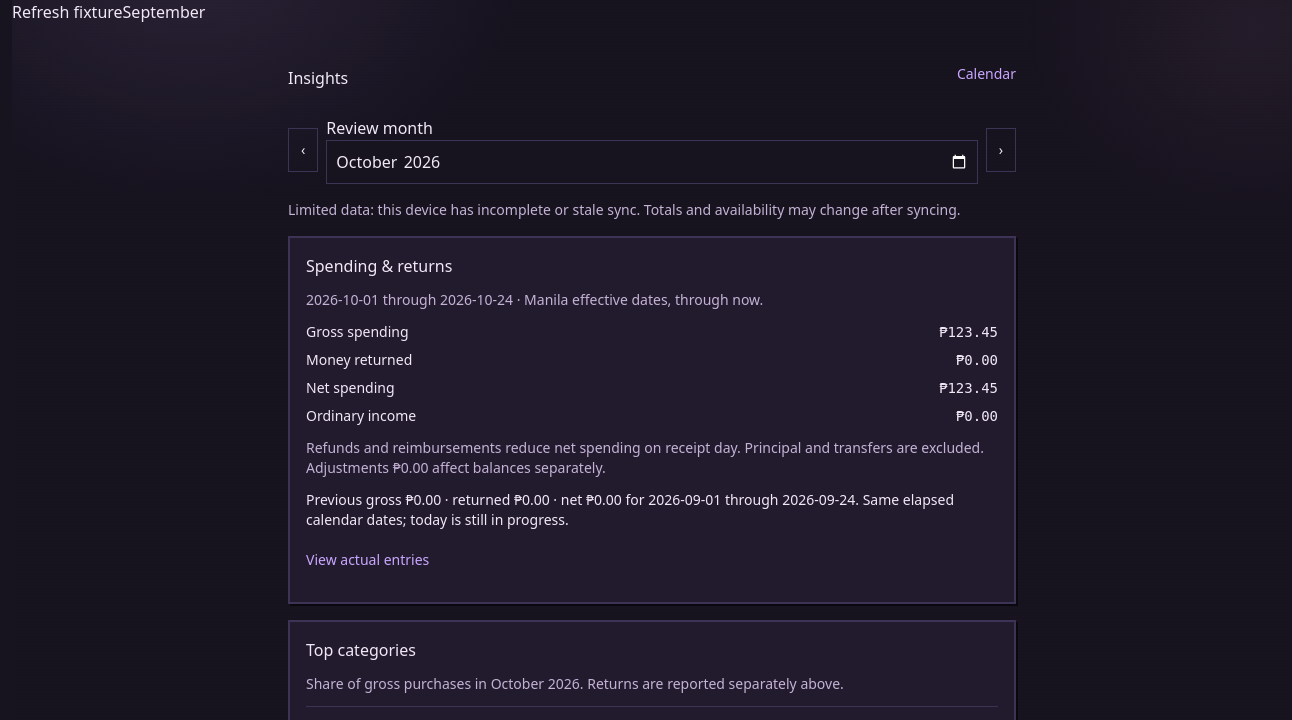
Scenario: switches months without putting old totals under new labels and scopes future data
This screenshot has width=1292, height=720.
Expected: the heading "Top categories" is shown, top-left (306, 639), bottom-right (416, 661)
Click the link "September": (164, 12) top-left (123, 1), bottom-right (206, 23)
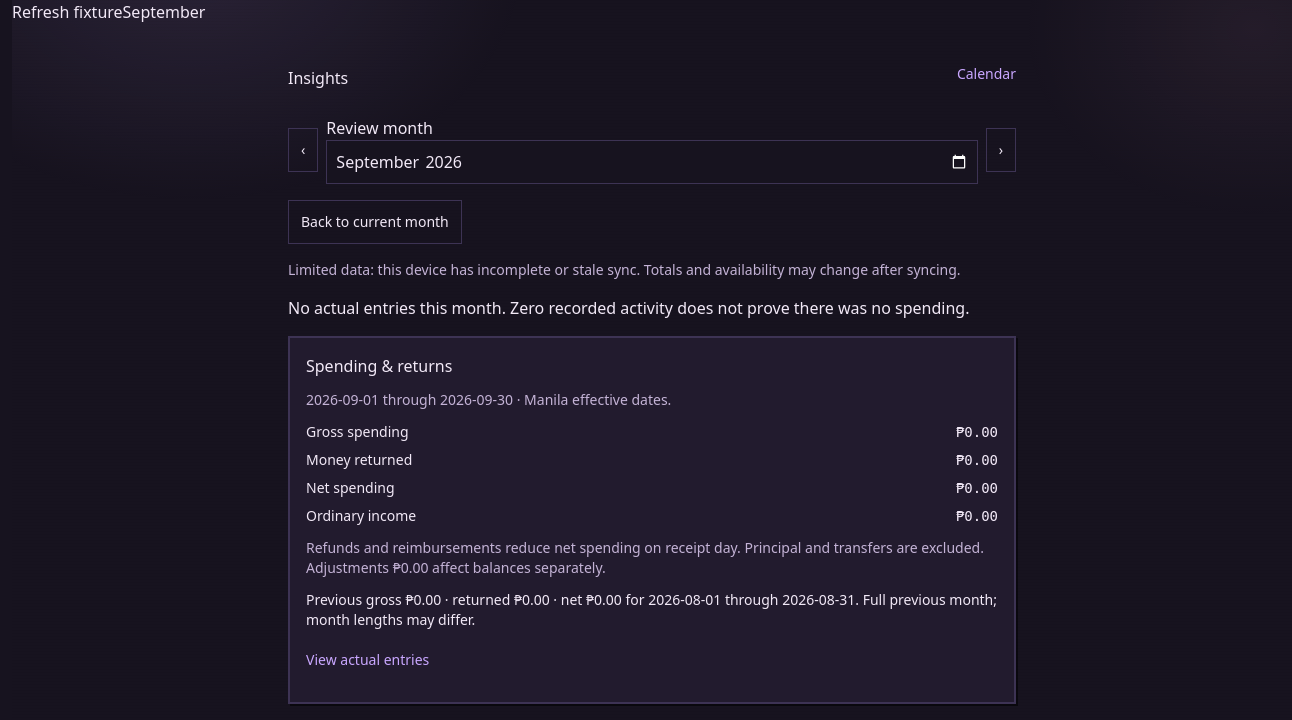
Expected: the link "Food (archived)" is not shown
Expected: the text "No actual entries this month. Zero recorded activity does not prove there was no spending." is shown, top-left (288, 297), bottom-right (970, 319)
Replace the text in the field labelled "Review month" with "2026-12": (652, 162) top-left (326, 140), bottom-right (978, 184)
(page scrolled)
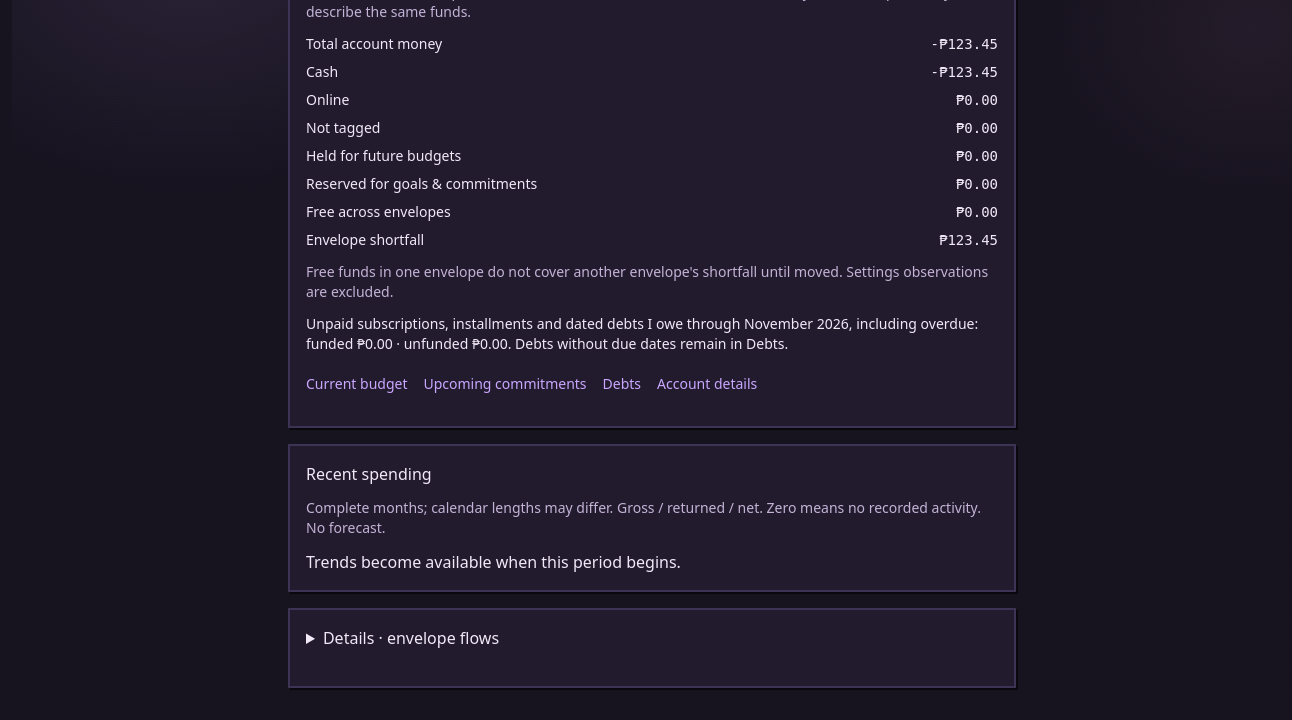
Expected: the text "Trends become available when this period begins." is shown, top-left (306, 551), bottom-right (681, 573)
